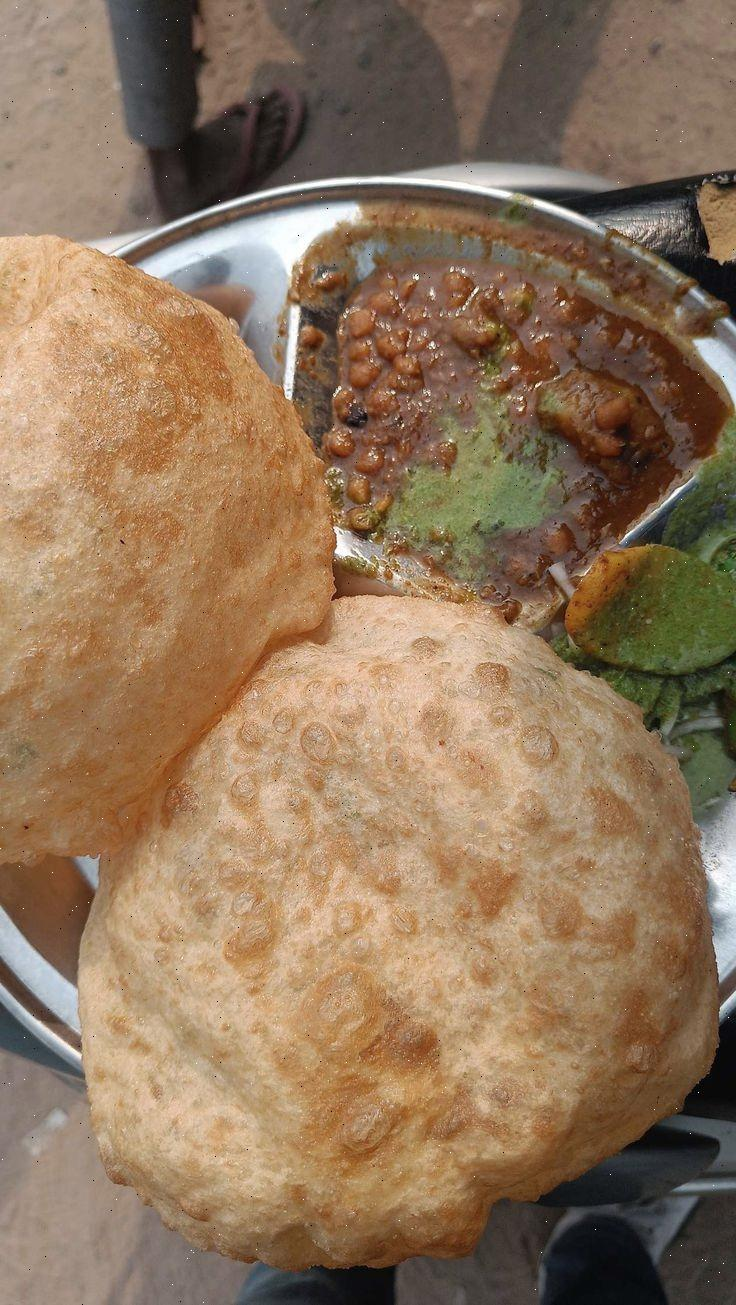chole: (303, 221, 630, 515)
puri: (166, 642, 637, 1218), (0, 238, 270, 768)
